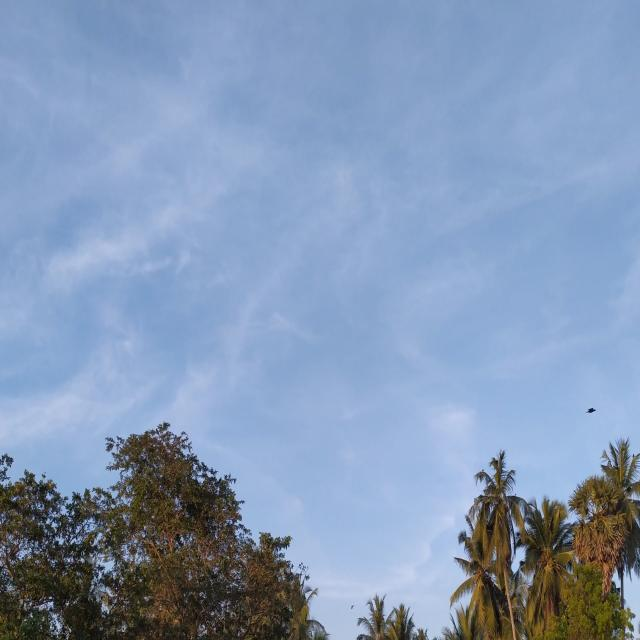bird: (581, 403, 600, 424)
